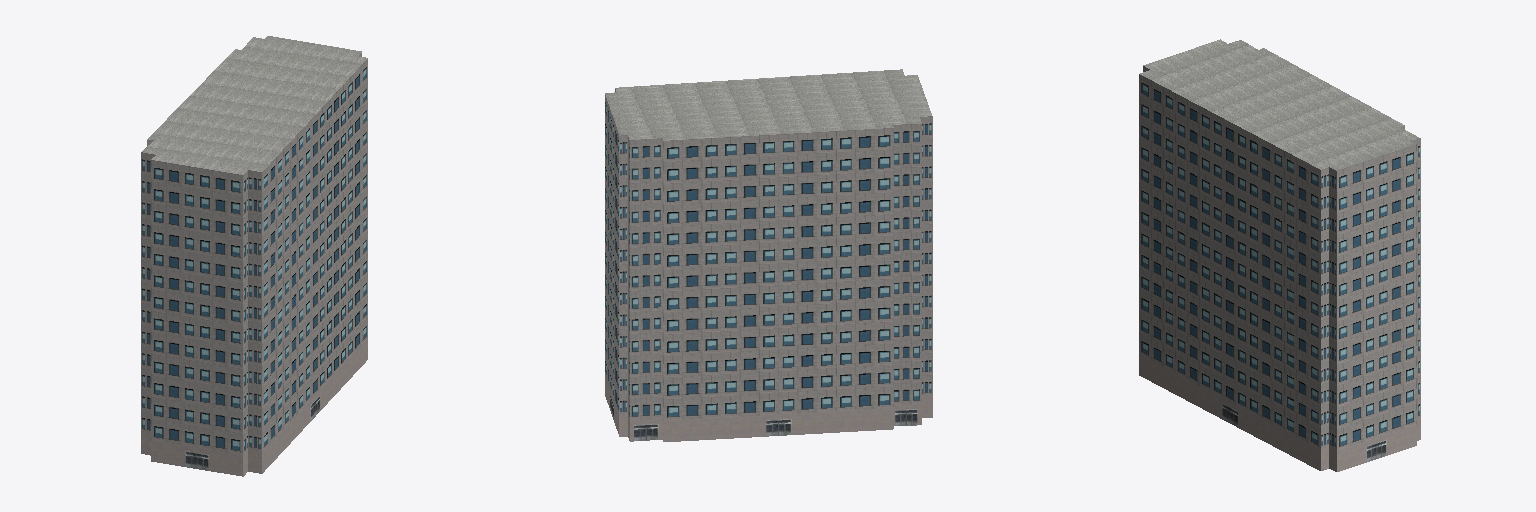
The picture shows the model from 3 angles: view 1: azimuth 30°, elevation 25°; view 2: azimuth 150°, elevation 25°; view 3: azimuth 270°, elevation 25°; orthographic projection.
Visible parts, largest first — view 1: BuildingMaster_[number redacted]_0, BuildingMaster_[number redacted]_1; view 2: BuildingMaster_[number redacted]_0, BuildingMaster_[number redacted]_1; view 3: BuildingMaster_[number redacted]_0, BuildingMaster_[number redacted]_1.
Part boxes in pixels (bbox=[...]): BuildingMaster_[number redacted]_0: bbox=[141, 53, 367, 476]; BuildingMaster_[number redacted]_1: bbox=[142, 36, 367, 174]; BuildingMaster_[number redacted]_0: bbox=[605, 89, 932, 441]; BuildingMaster_[number redacted]_1: bbox=[605, 69, 931, 140]; BuildingMaster_[number redacted]_0: bbox=[1139, 66, 1420, 471]; BuildingMaster_[number redacted]_1: bbox=[1140, 39, 1419, 170].
Size of the model in its own units: 45.85 by 49 by 41.48.
Materials: 2 (2 with a texture image).